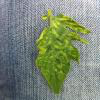Tomato leaf mosaic virus: (33, 6, 92, 96)
